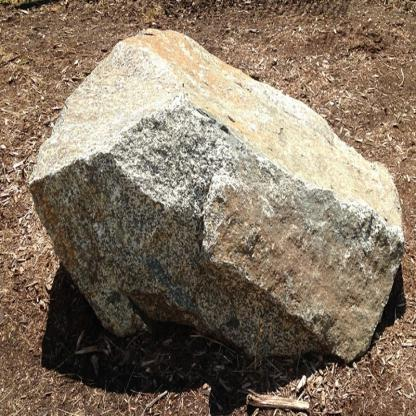Igneous_Diorite: (24, 20, 413, 375)
